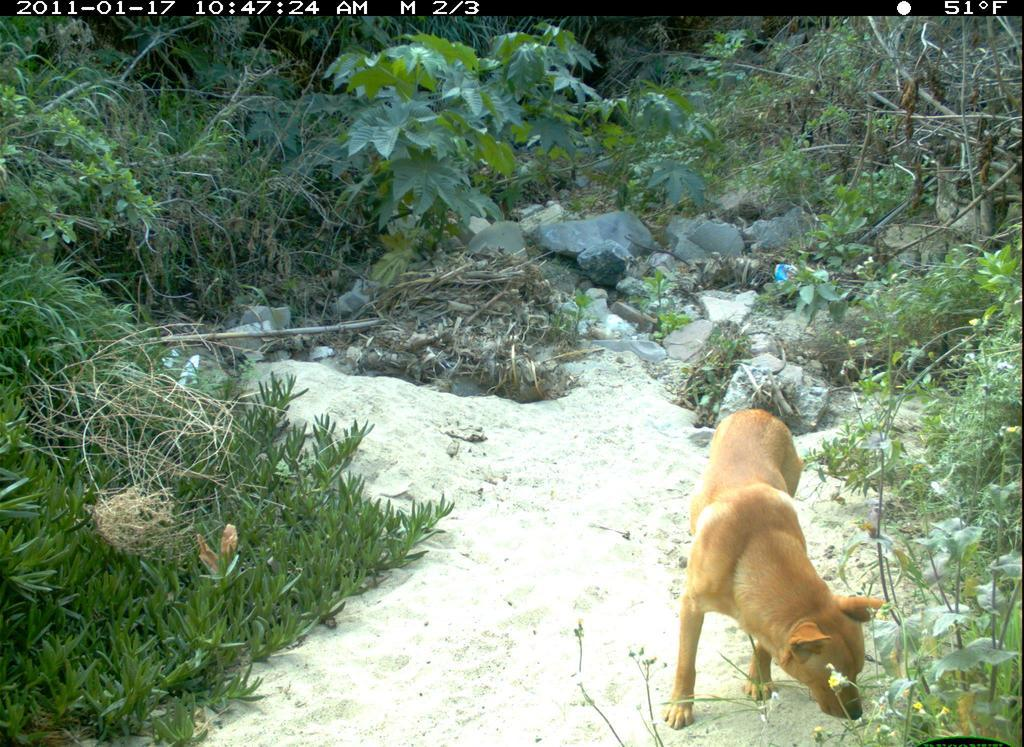dog: (660, 387, 889, 745)
